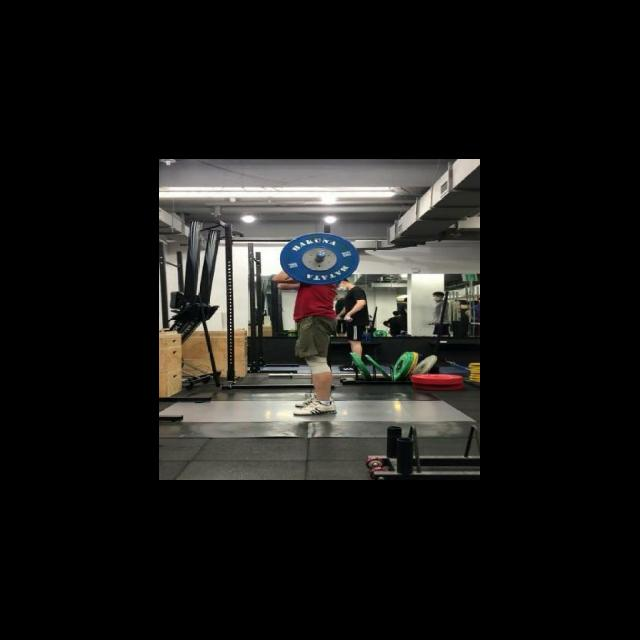barbell: (279, 229, 361, 286)
